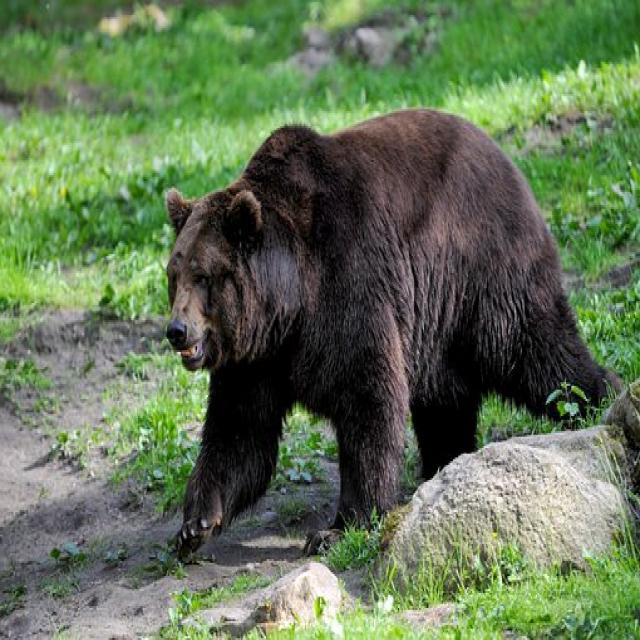Bear: (166, 107, 627, 567)
